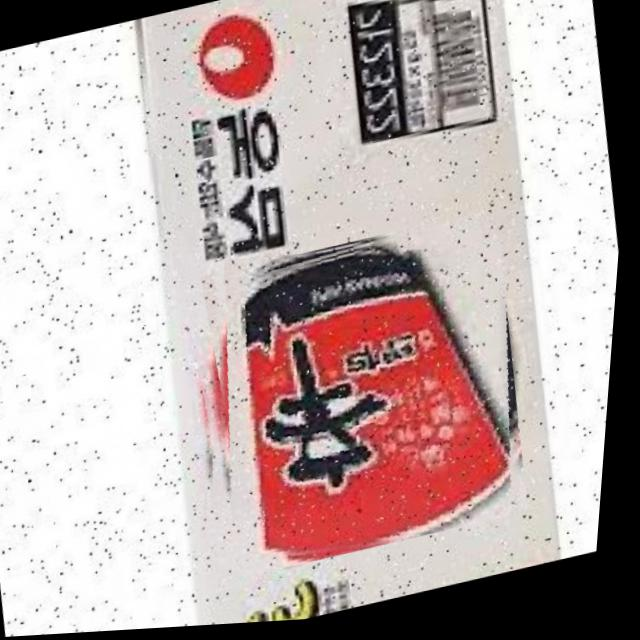Miscellaneous: (168, 208, 553, 590)
